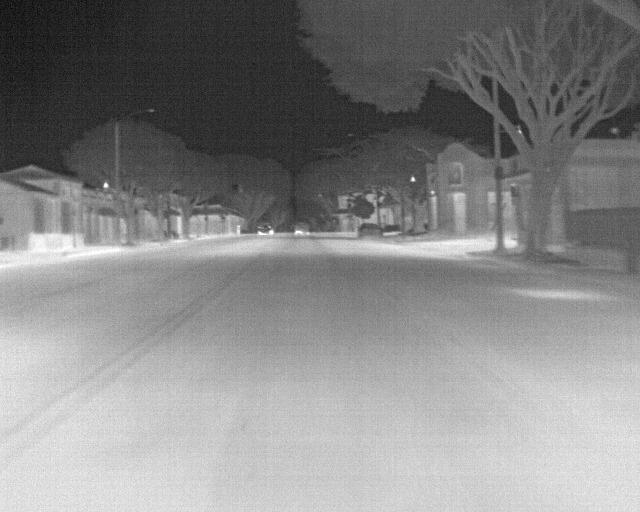car: (357, 221, 383, 243), (290, 220, 311, 237), (255, 221, 275, 235)
